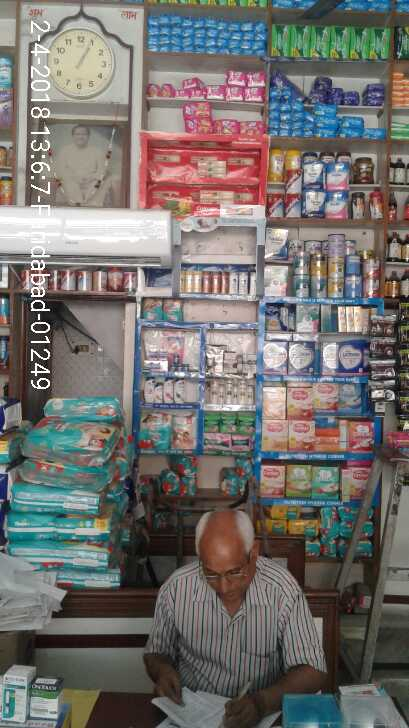vicks: (150, 351, 160, 360), (151, 361, 160, 370), (143, 360, 151, 370), (160, 351, 168, 360), (160, 361, 167, 371), (174, 352, 179, 363), (171, 365, 178, 371), (178, 365, 185, 370), (185, 365, 190, 370)
